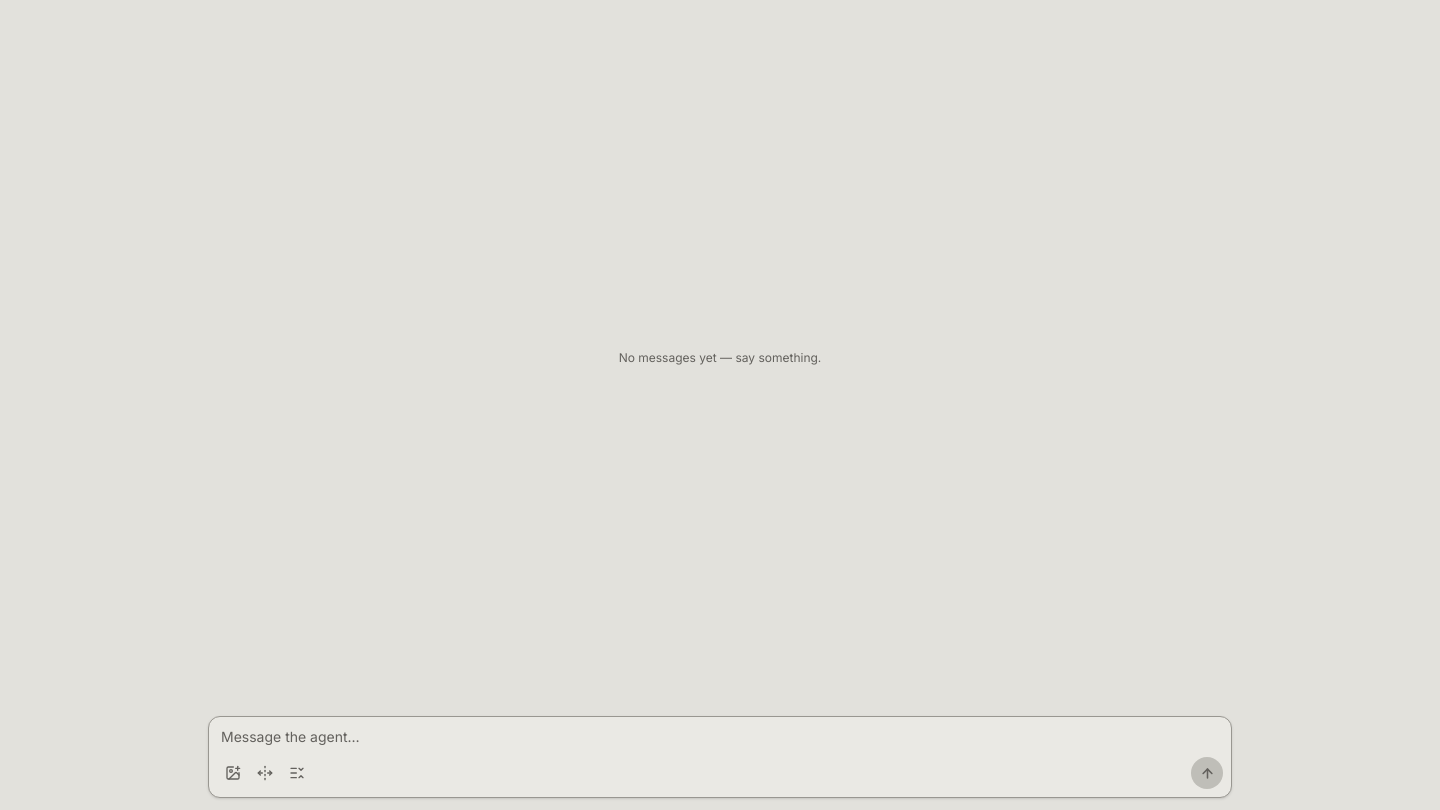
Scenario: WorkspaceChat composer menu › lists matching commands on /, prefix matches first, and runs one that takes no argument
Type "/co" into the text box at (720, 737), box [209,717,1231,757]
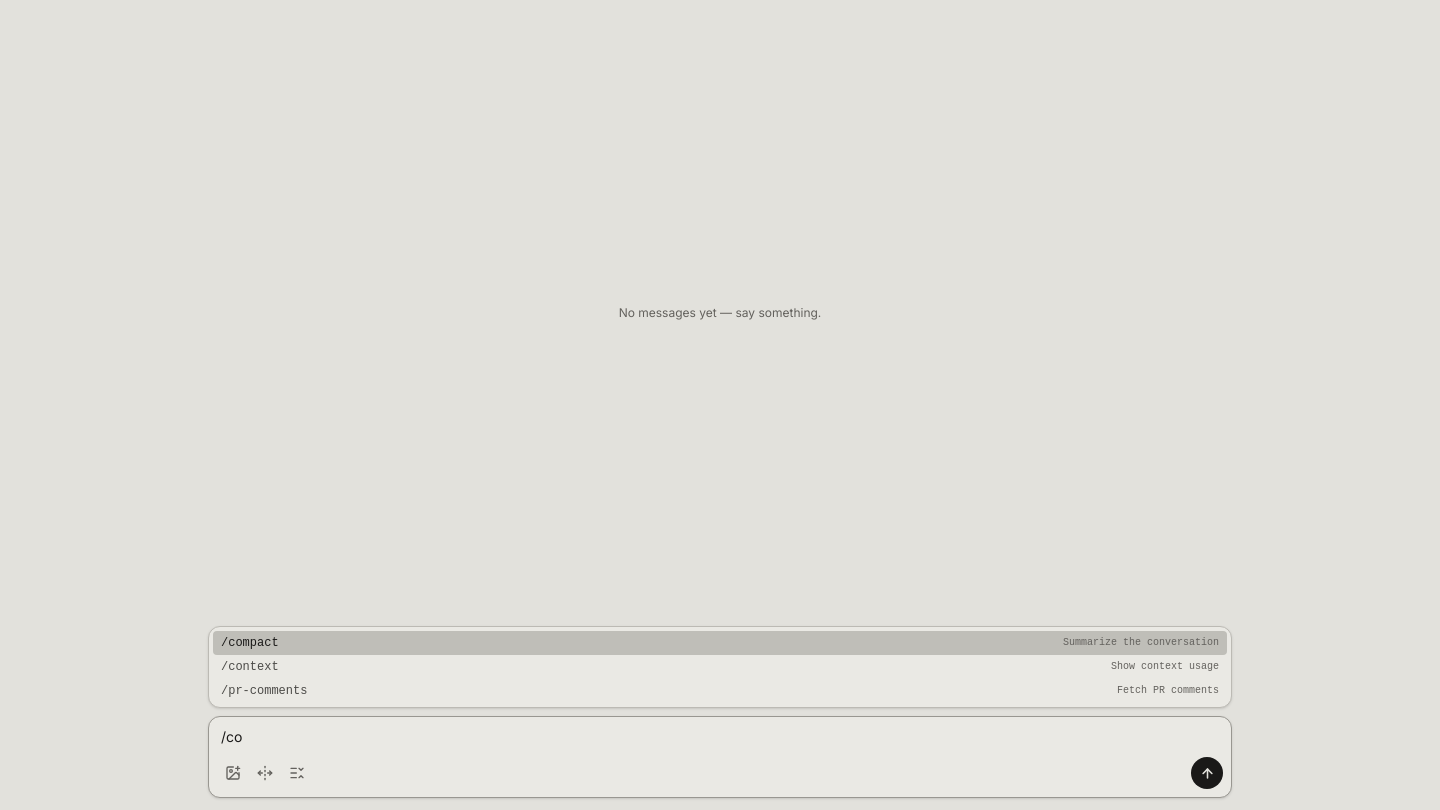
Press ArrowDown in the text box, box [209,717,1231,757]
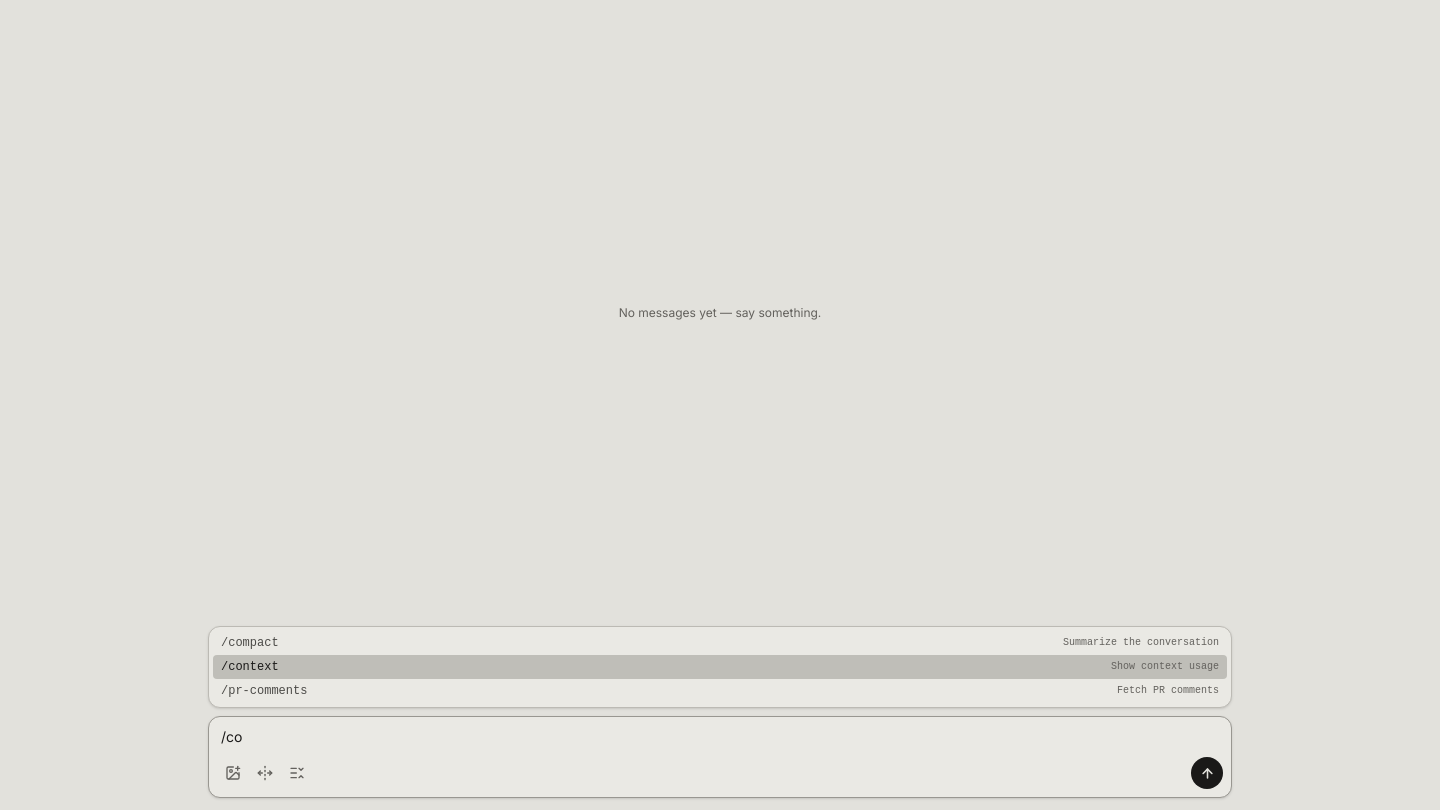
Press Enter in the text box, box [209,717,1231,757]
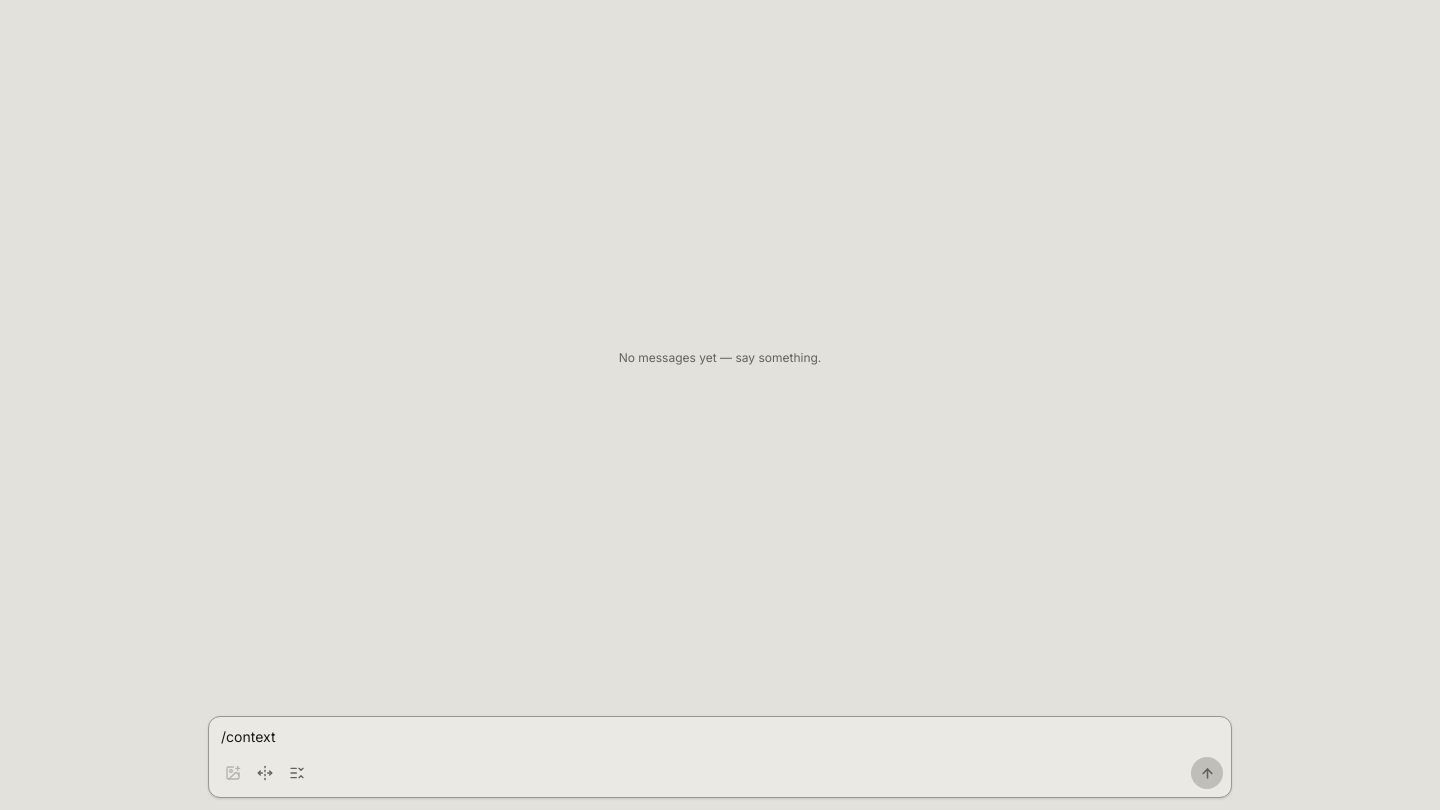
Expected: the text box holds "/context", [209,717,1231,757]
